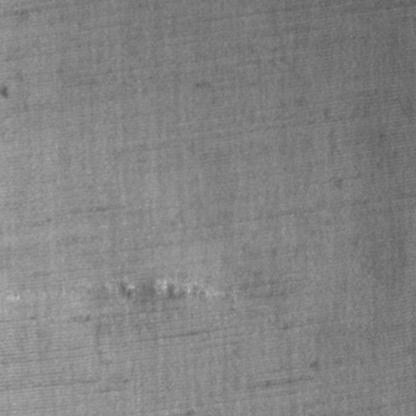thread error: (101, 274, 220, 308)
